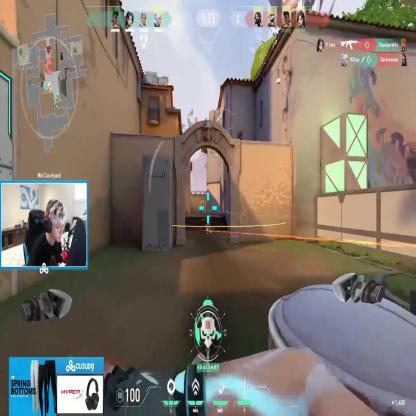enemy: (200, 198, 204, 213)
enemy_head: (202, 198, 204, 201)
